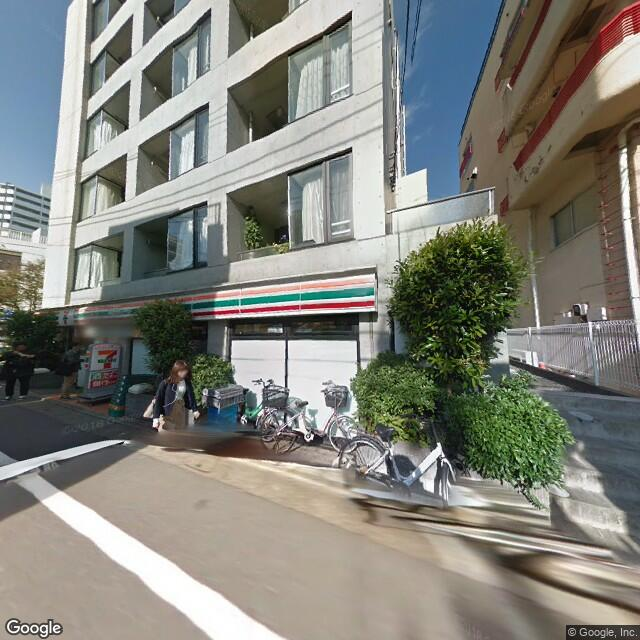7-eleven: (48, 267, 379, 331), (92, 345, 120, 372)
